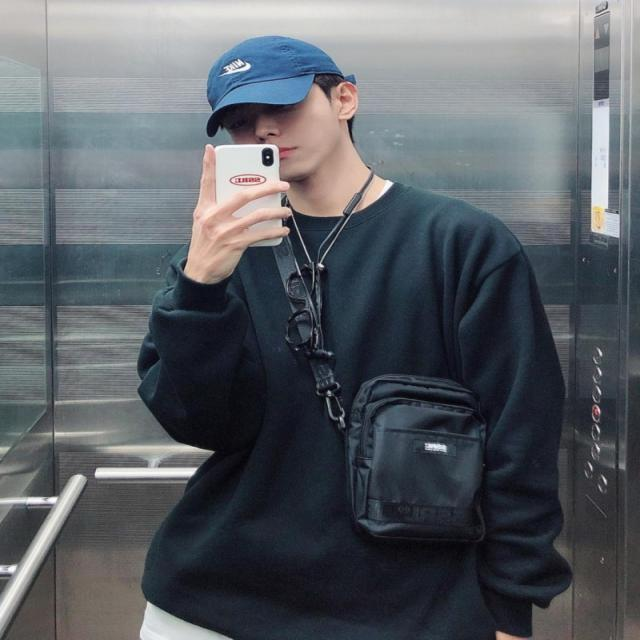phone: (214, 144, 282, 246)
